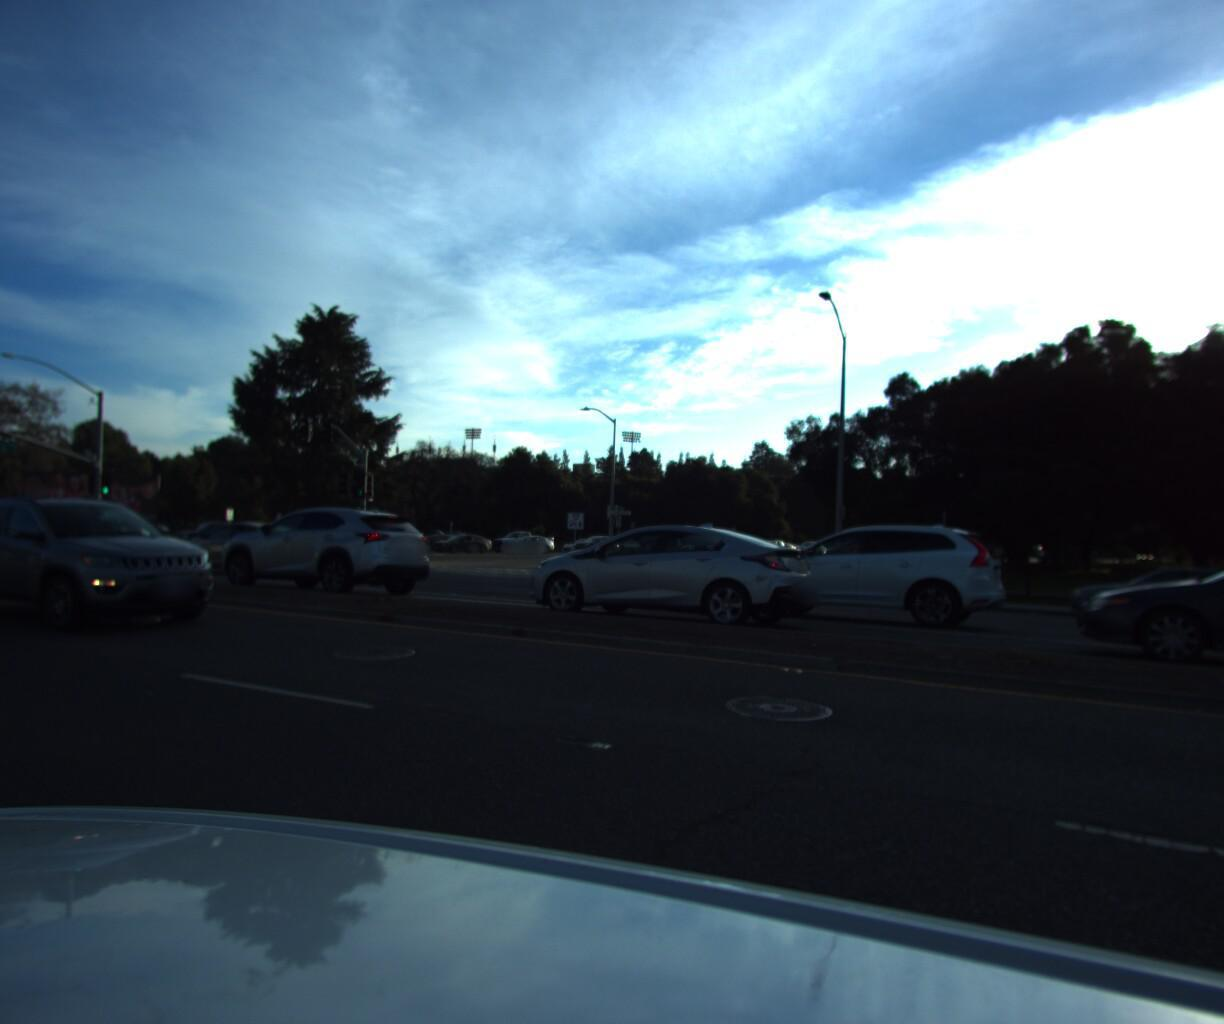car: (499, 511, 825, 644), (0, 492, 243, 646), (726, 519, 1012, 636), (1061, 525, 1224, 727), (194, 495, 439, 607), (1054, 551, 1224, 639), (164, 510, 339, 578), (164, 514, 272, 550), (424, 526, 494, 554), (484, 524, 556, 550), (0, 504, 28, 565), (493, 525, 556, 552), (569, 525, 624, 548), (555, 531, 609, 552), (748, 533, 788, 552)
